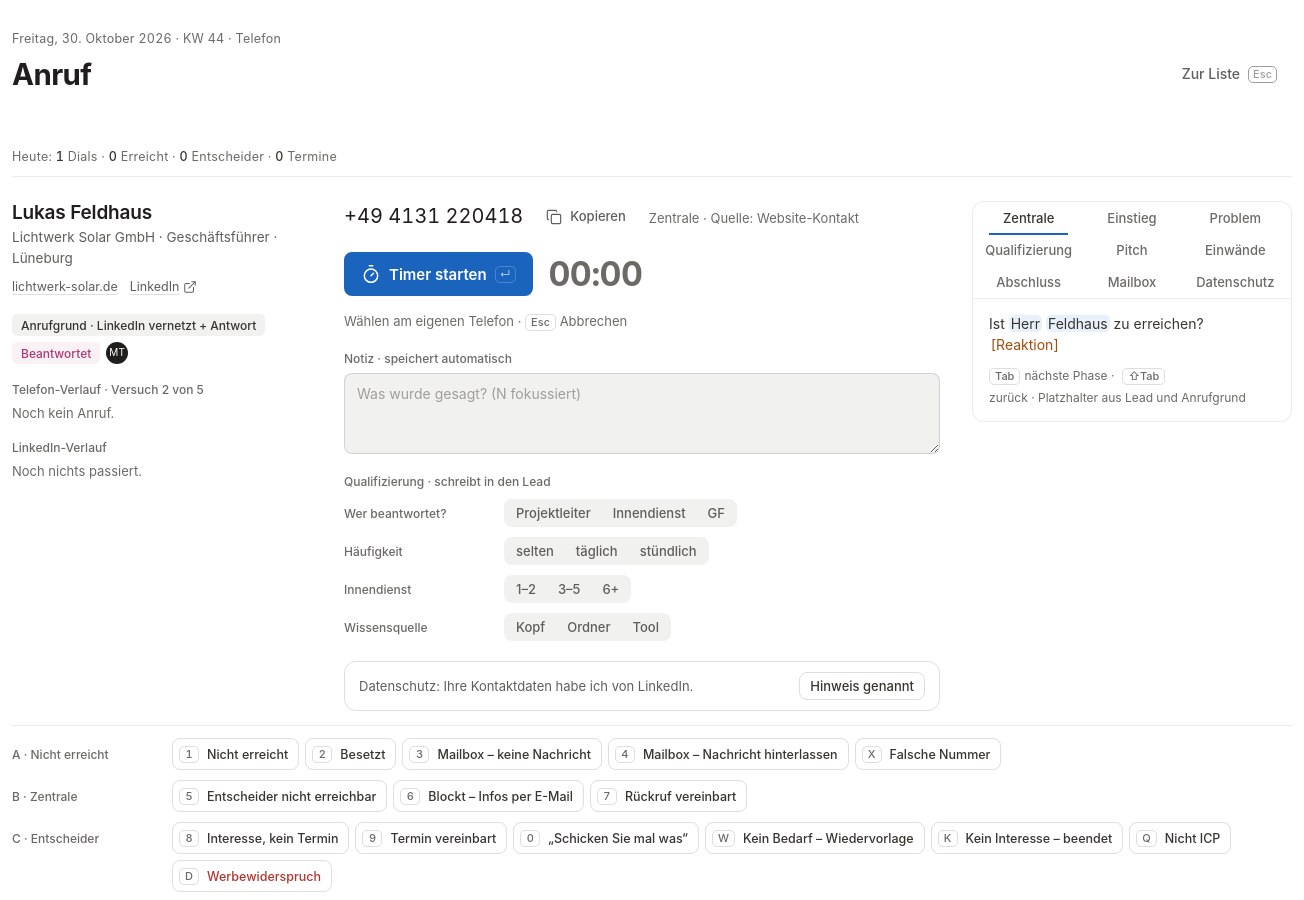
Scenario: AnrufScreen › T-15: Taste 0 ohne Zitat lässt sich nicht speichern – Fehlertext, kein RPC
This screenshot has width=1304, height=900.
Expected: the button with test id "anrufen" is shown, [344,252,532,296]
Press Enter
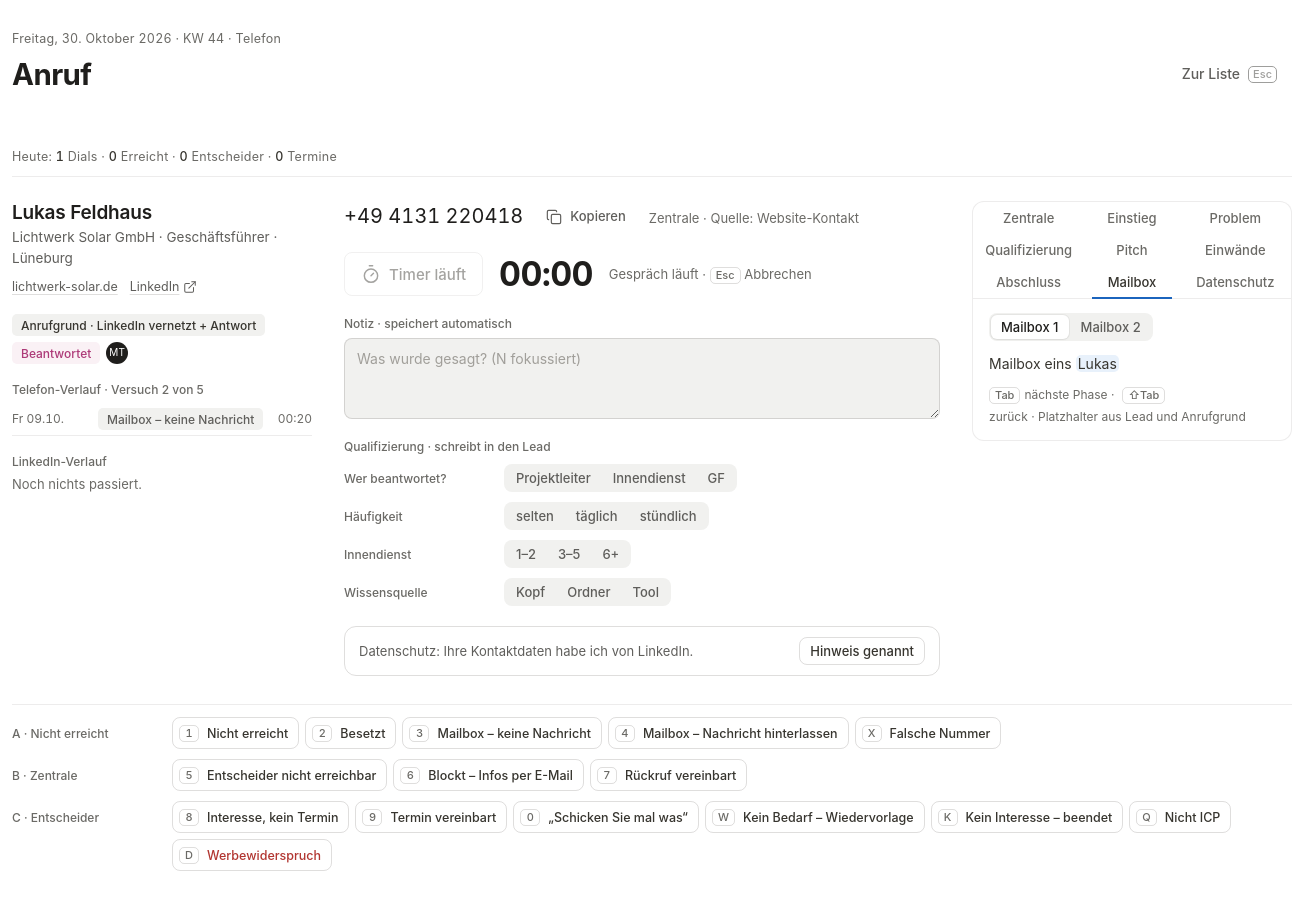
Press 0
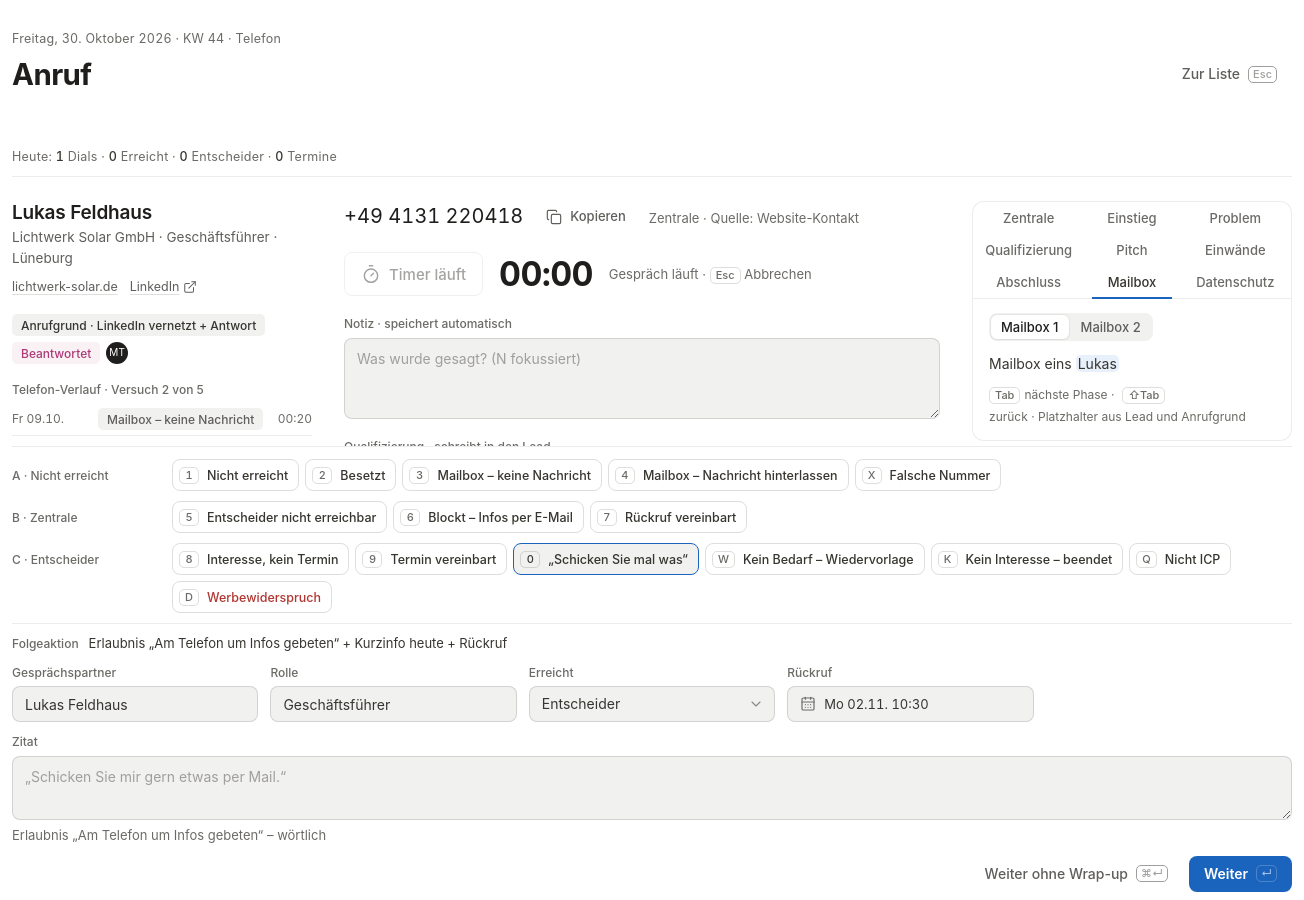
Expected: the element named "Wrap-up" is shown, [12,623,1292,892]
Click the button "Weiter ↵" at (1240, 874), box [1189,856,1292,892]
(page scrolled)
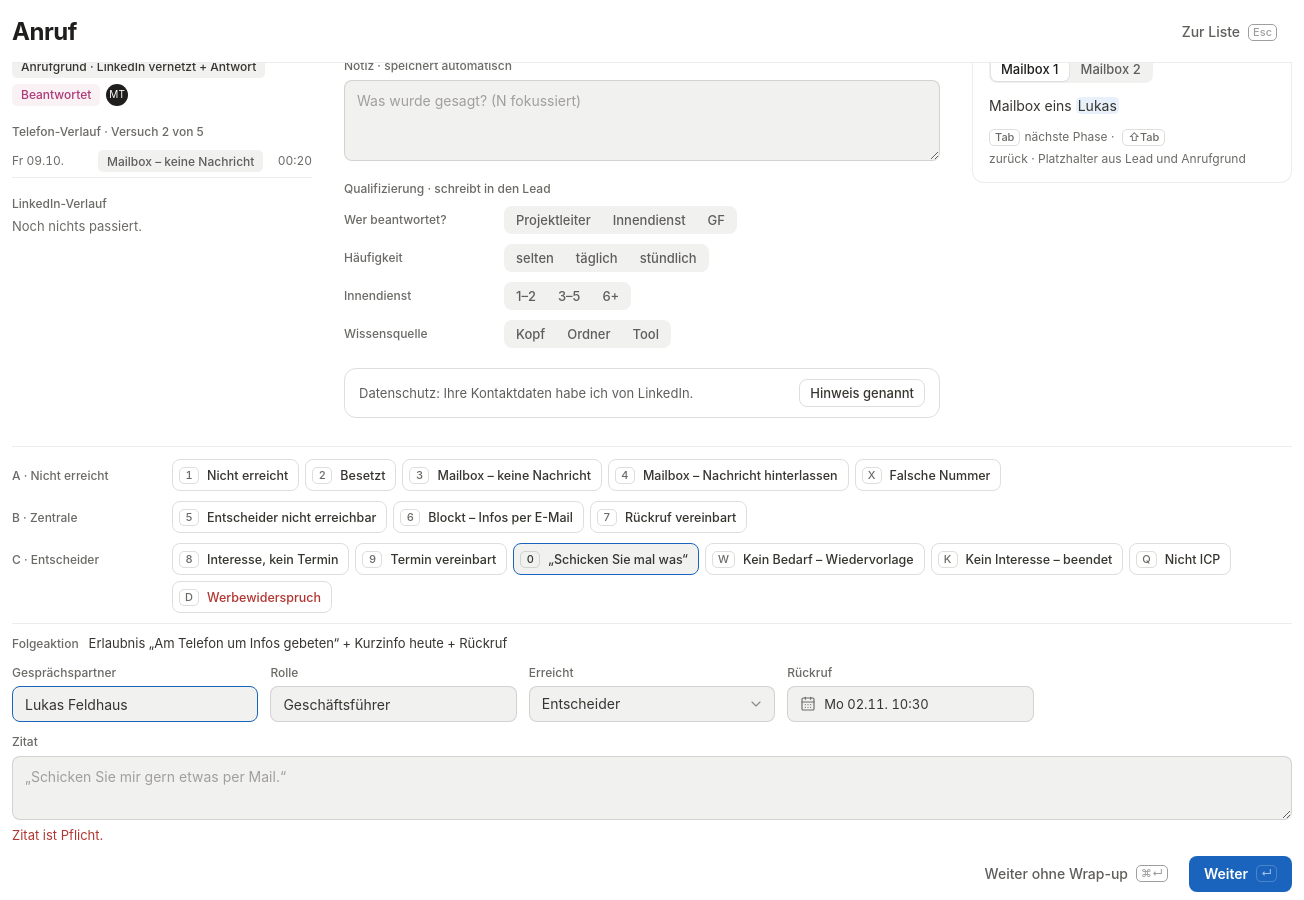
Expected: the text "Zitat ist Pflicht." is shown, [12,827,103,843]
